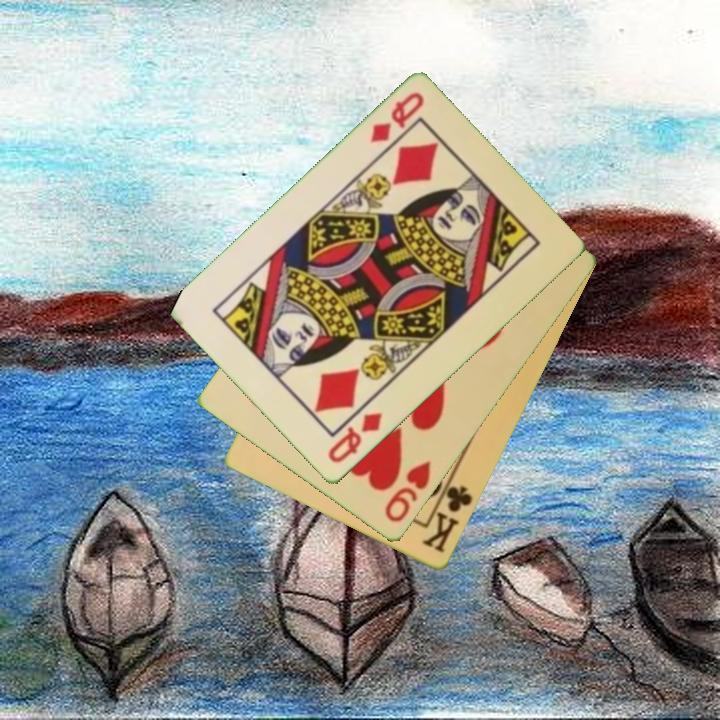9h: (381, 457, 434, 526)
Kc: (418, 474, 476, 557)
Qd: (324, 409, 386, 467), (366, 89, 427, 147)
